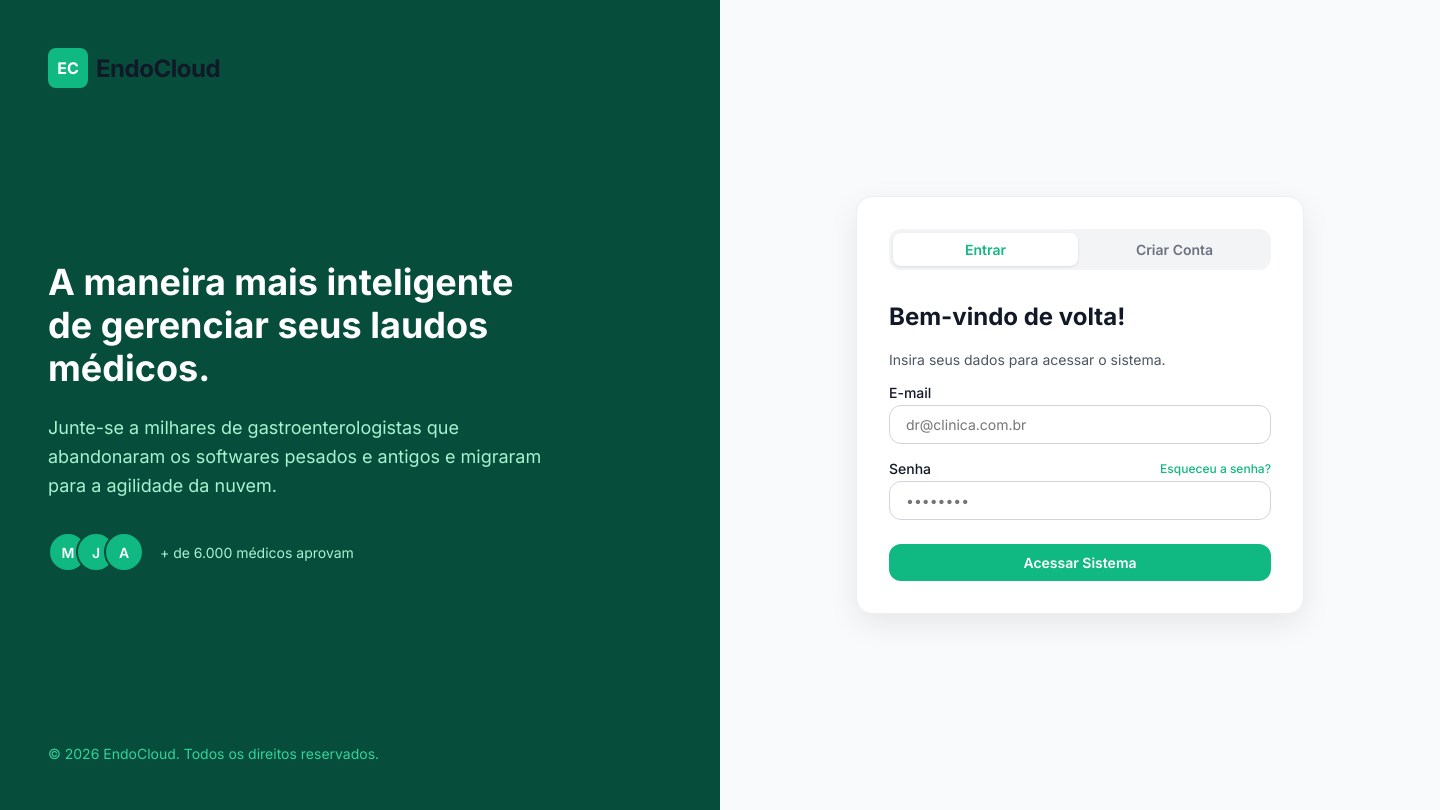
Test: AuthPage › alterna para o formulário de cadastro ao clicar em Criar Conta
Click the button "Criar Conta": (1174,250) x1=1082 y1=233 x2=1267 y2=266
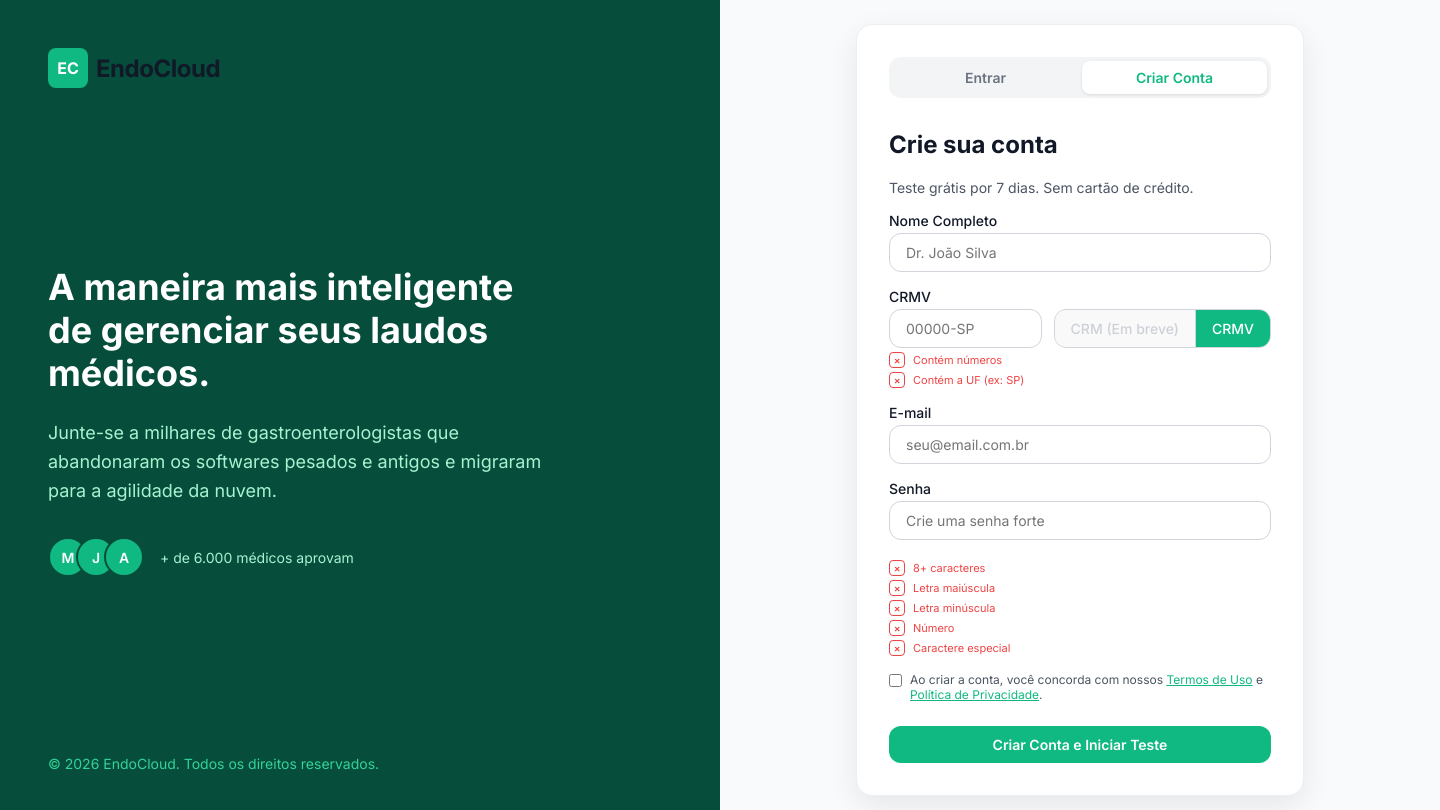
Expected: the heading "Crie sua conta" is shown, x1=889 y1=130 x2=1058 y2=159
